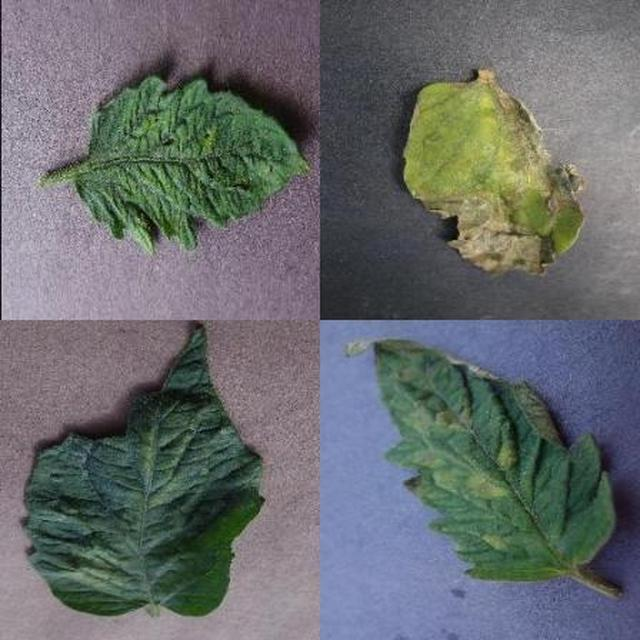Mosaic Virus Leaf: (206, 236, 640, 640)
